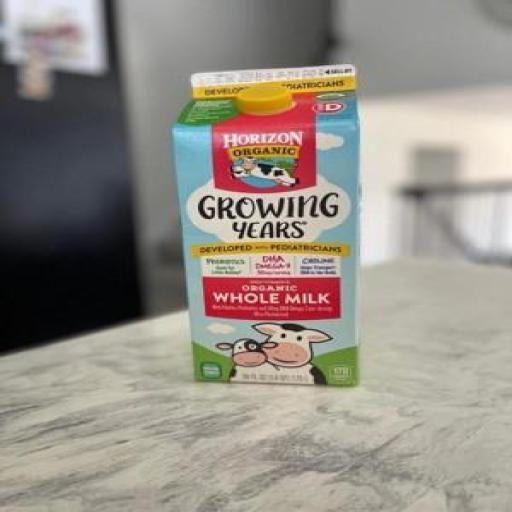drink carton: (171, 64, 363, 387)
plastic bottle cap: (236, 84, 292, 116)
